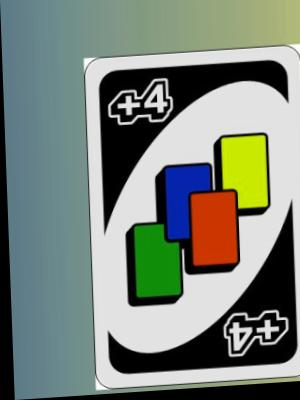wild-4: (82, 46, 300, 392)
